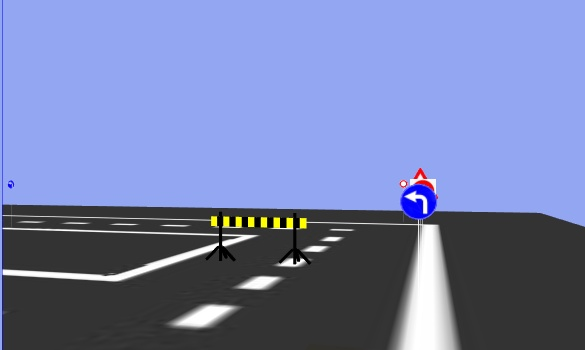engel: (202, 208, 320, 271)
sola_meburi_yol: (398, 184, 438, 221)
